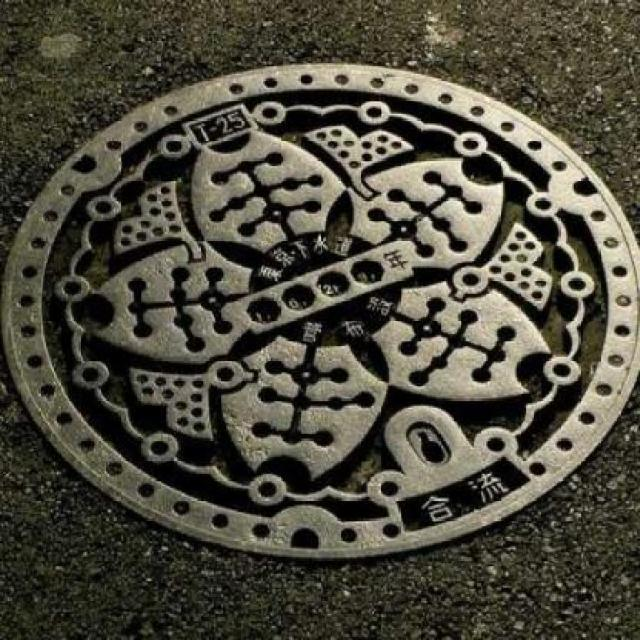Manhole: (3, 64, 640, 570)
